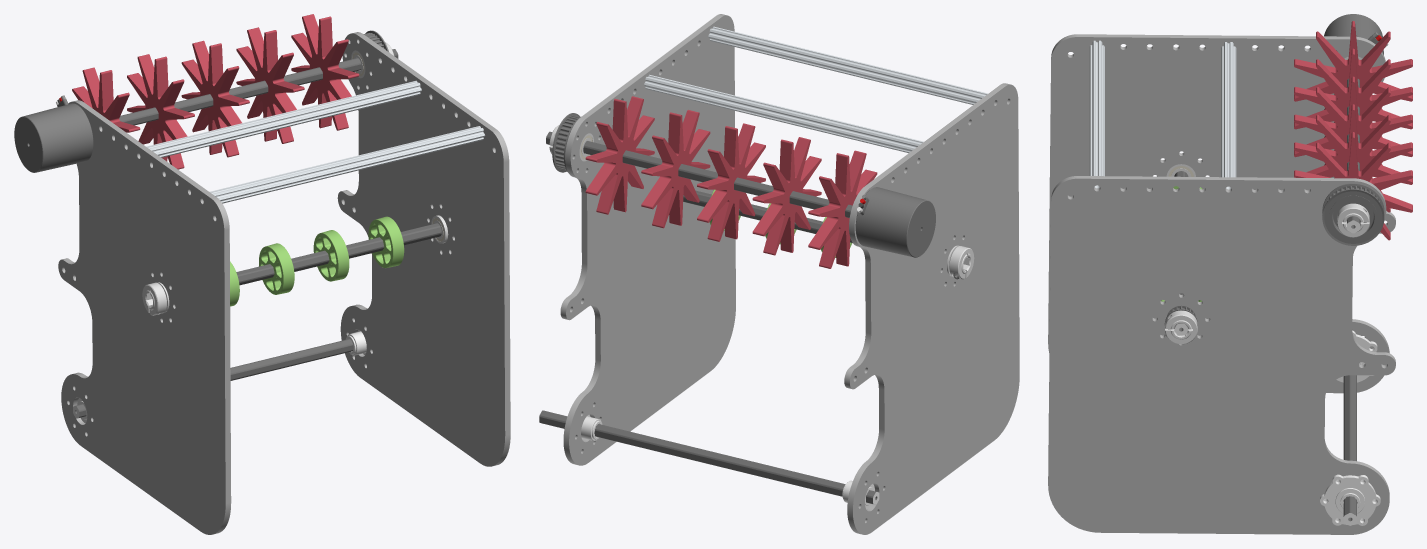
3 renders of one model, left to right at view 1: azimuth 30°, elevation 25°; view 2: azimuth 150°, elevation 25°; view 3: azimuth 270°, elevation 25°, orthographic. The views are drawn at different scales.
Visible parts, largest first — view 1: Part 1 (×2), 5" Entrapption Star (40A, 1/2" Hex Bore) (×5), am-2569 500 Cross Hex Tube, 2000 (×2), NEO Brushless Motor V1.1, 1/2" Rounded Hex (15" L, 13.75mm OD) (×2), 2" Compliant Wheel (35A, 3/4" Wide, 1/2" Hex Stretch Bore) (×3), 1/2" Rounded Hex (14" L, 13.75mm OD), 1/2" Hex Clamping Shaft Collar (Heavy Duty); view 2: Part 1 (×2), 5" Entrapption Star (40A, 1/2" Hex Bore) (×5), am-2569 500 Cross Hex Tube, 2000 (×2), 1/2" Rounded Hex (15" L, 13.75mm OD) (×2), NEO Brushless Motor V1.1, 36t Aluminum Pulley (HTD 5mm, 9mm Wide, 1/2" Hex Bore), 1/2" Rounded Hex (14" L, 13.75mm OD), 1/2" Hex Clamping Shaft Collar (Heavy Duty); view 3: Part 1 (×2), 5" Entrapption Star (40A, 1/2" Hex Bore) (×5), am-2569 500 Cross Hex Tube, 2000 (×2), 36t Aluminum Pulley (HTD 5mm, 9mm Wide, 1/2" Hex Bore), 1/2" Hex Hub (0.875" OD, 1.875" Bolt Circle), 1/2" Rounded Hex (15" L, 13.75mm OD), 1/2" Hex Clamping Shaft Collar (Heavy Duty) (×2), NEO Brushless Motor V1.1.
Boxes of the visible parts, bbox=[...] form: Part 1 (×2): bbox=[58, 32, 510, 534]; 5" Entrapption Star (40A, 1/2" Hex Bore) (×5): bbox=[72, 14, 359, 169]; am-2569 500 Cross Hex Tube, 2000 (×2): bbox=[146, 80, 484, 203]; NEO Brushless Motor V1.1: bbox=[14, 95, 93, 172]; 1/2" Rounded Hex (15" L, 13.75mm OD) (×2): bbox=[73, 49, 398, 418]; 2" Compliant Wheel (35A, 3/4" Wide, 1/2" Hex Stretch Bore) (×3): bbox=[259, 216, 404, 294]; 1/2" Rounded Hex (14" L, 13.75mm OD): bbox=[236, 223, 441, 285]; 1/2" Hex Clamping Shaft Collar (Heavy Duty): bbox=[142, 282, 166, 315]; Part 1 (×2): bbox=[560, 14, 1019, 534]; 5" Entrapption Star (40A, 1/2" Hex Bore) (×5): bbox=[585, 96, 877, 268]; am-2569 500 Cross Hex Tube, 2000 (×2): bbox=[644, 26, 987, 153]; 1/2" Rounded Hex (15" L, 13.75mm OD) (×2): bbox=[539, 131, 879, 504]; NEO Brushless Motor V1.1: bbox=[855, 187, 935, 257]; 36t Aluminum Pulley (HTD 5mm, 9mm Wide, 1/2" Hex Bore): bbox=[552, 113, 580, 172]; 1/2" Rounded Hex (14" L, 13.75mm OD): bbox=[683, 190, 852, 242]; 1/2" Hex Clamping Shaft Collar (Heavy Duty): bbox=[949, 246, 974, 279]; Part 1 (×2): bbox=[1048, 34, 1395, 534]; 5" Entrapption Star (40A, 1/2" Hex Bore) (×5): bbox=[1294, 21, 1412, 240]; am-2569 500 Cross Hex Tube, 2000 (×2): bbox=[1089, 40, 1236, 189]; 36t Aluminum Pulley (HTD 5mm, 9mm Wide, 1/2" Hex Bore): bbox=[1322, 183, 1384, 245]; 1/2" Hex Hub (0.875" OD, 1.875" Bolt Circle): bbox=[1320, 474, 1380, 525]; 1/2" Rounded Hex (15" L, 13.75mm OD): bbox=[1343, 375, 1356, 525]; 1/2" Hex Clamping Shaft Collar (Heavy Duty) (×2): bbox=[1165, 203, 1369, 344]; NEO Brushless Motor V1.1: bbox=[1324, 14, 1388, 54].
Size of the model in its own units: 0.4345 by 0.4057 by 0.3524.
